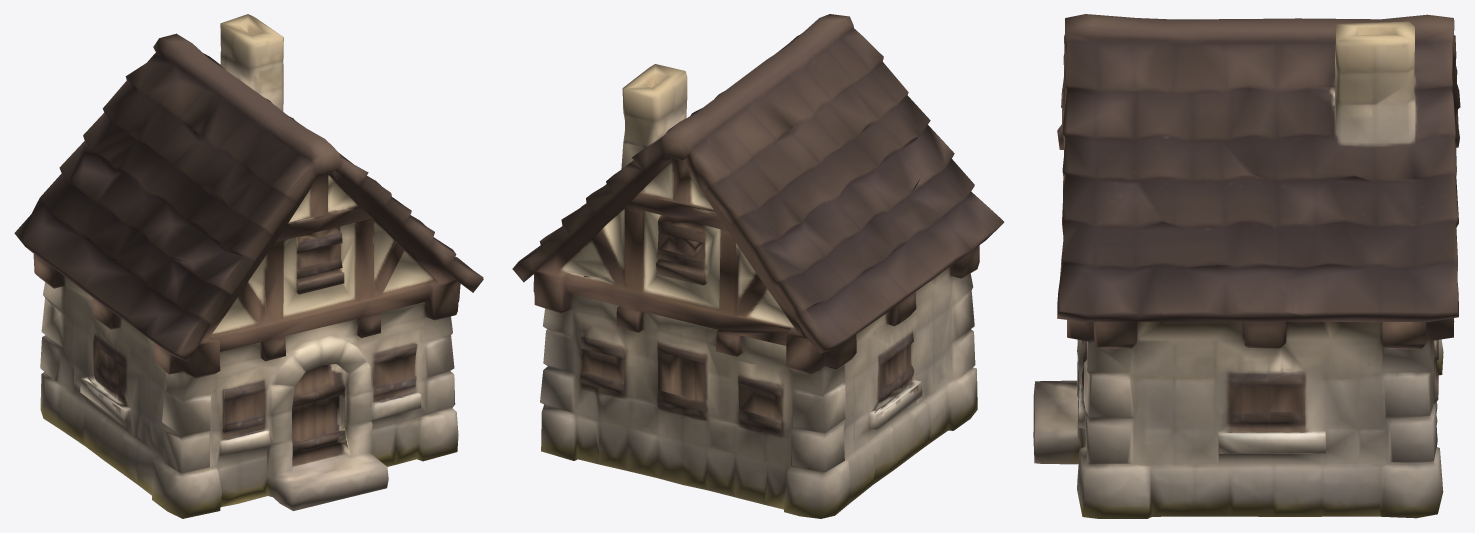
File: cottage_a.glb
3 views of the same model, side by side, from view 1: azimuth 30°, elevation 25°; view 2: azimuth 150°, elevation 25°; view 3: azimuth 270°, elevation 25° (orthographic). The views are drawn at different scales.
Visible parts, largest first — view 1: geometry_0.001; view 2: geometry_0.001; view 3: geometry_0.001.
Part boxes in pixels (bbox=[...]): geometry_0.001: bbox=[14, 14, 483, 518]; geometry_0.001: bbox=[512, 14, 1004, 518]; geometry_0.001: bbox=[1033, 14, 1460, 518].
Size of the model in its own units: 1.81 by 1.99 by 1.77.
1 material, 1 textured.
